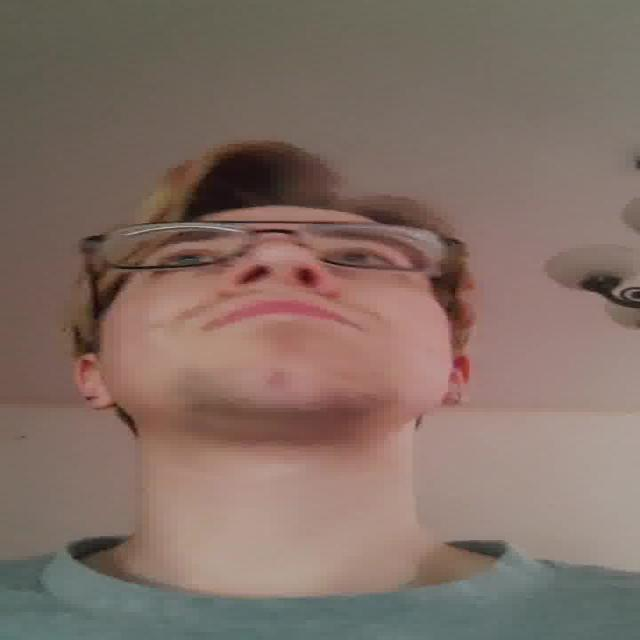earlobe: (70, 352, 114, 411), (438, 351, 475, 409)
